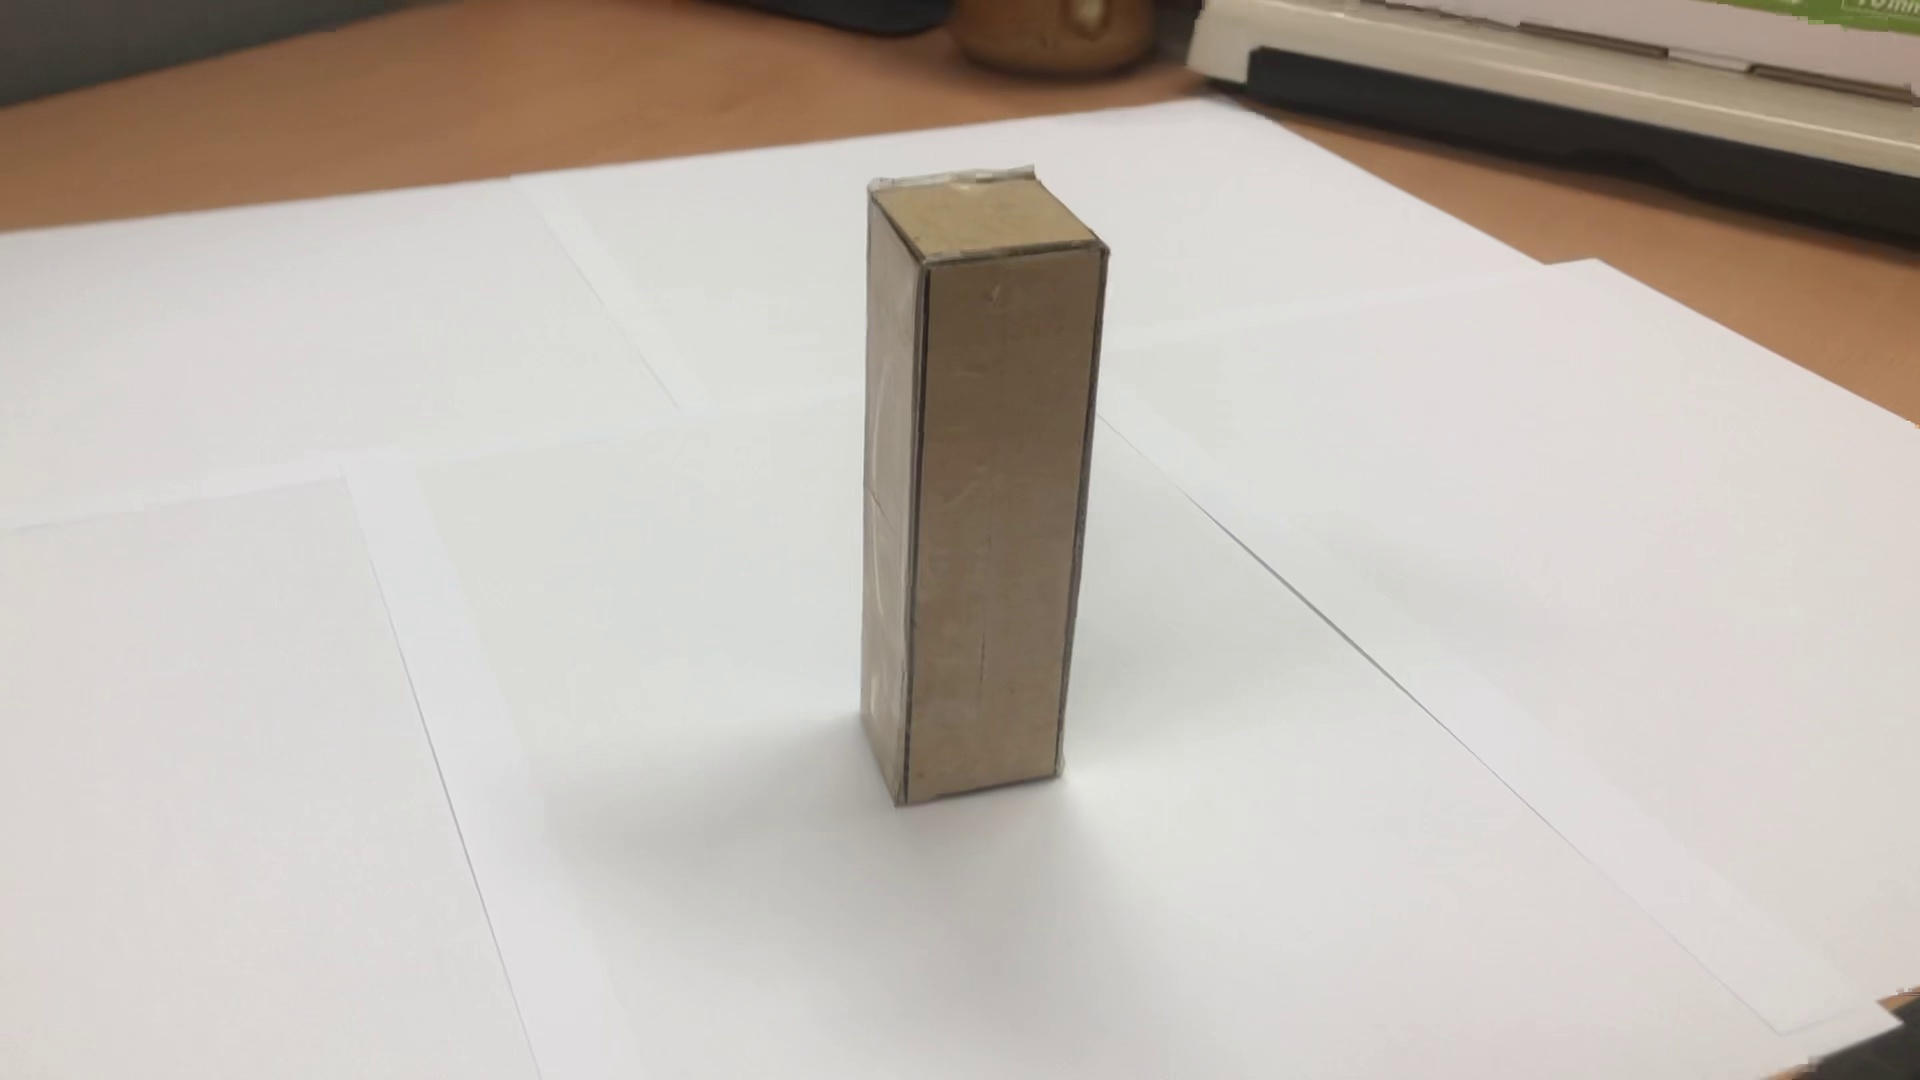box: (847, 135, 1122, 831)
